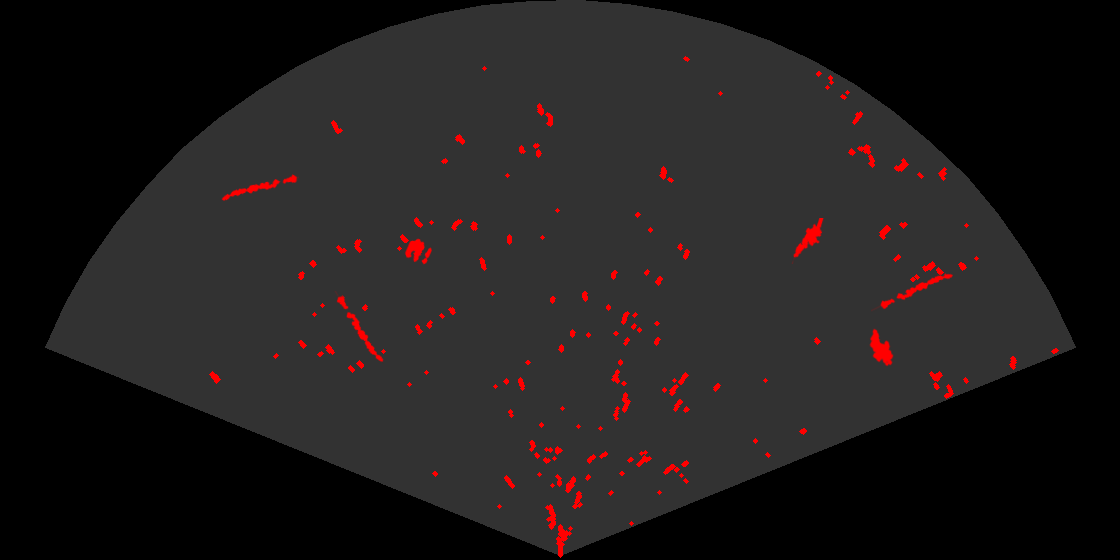AUV: (868, 327, 895, 368)
ball: (403, 237, 433, 266)
chain: (333, 291, 385, 364), (871, 272, 955, 313), (220, 173, 299, 202)
frogman: (791, 218, 826, 264)
